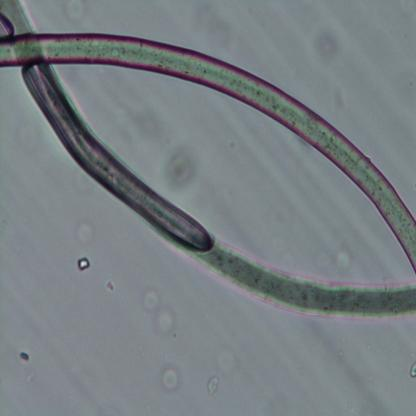Background material: (162, 137, 200, 196), (141, 284, 174, 338), (312, 239, 354, 278), (311, 18, 339, 68), (73, 211, 99, 247), (161, 359, 183, 393), (205, 375, 220, 397), (101, 274, 116, 294), (76, 254, 90, 273), (18, 346, 32, 363), (410, 360, 416, 378)
Microfibre: (0, 1, 416, 321), (0, 31, 416, 277)
